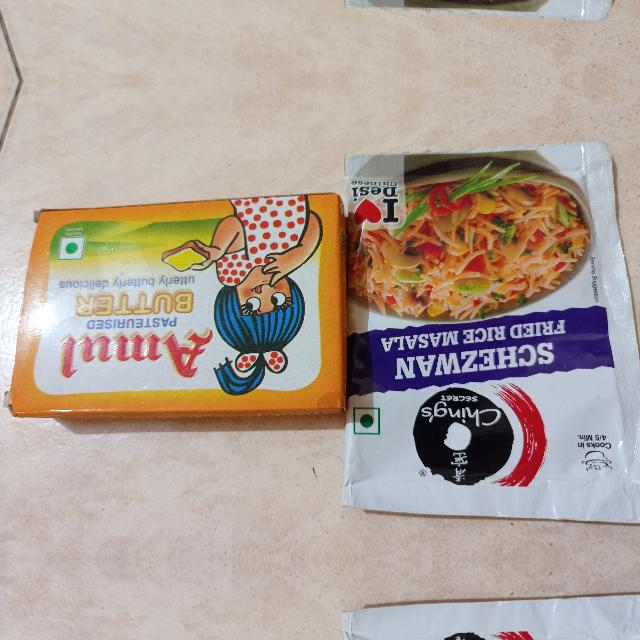Amul Butter: (5, 192, 351, 422)
Ching-s secret schezwan fried masala: (352, 140, 640, 518)
